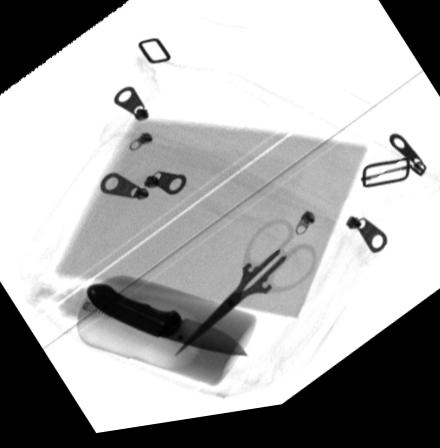Knife: (84, 285, 248, 365)
Scissors: (175, 225, 318, 361)
